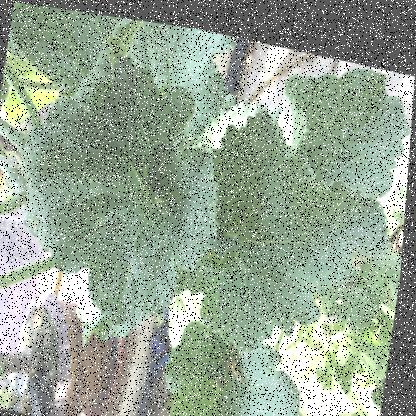Normal: (21, 75, 226, 286), (203, 151, 391, 343), (271, 47, 414, 205), (171, 323, 308, 415)
